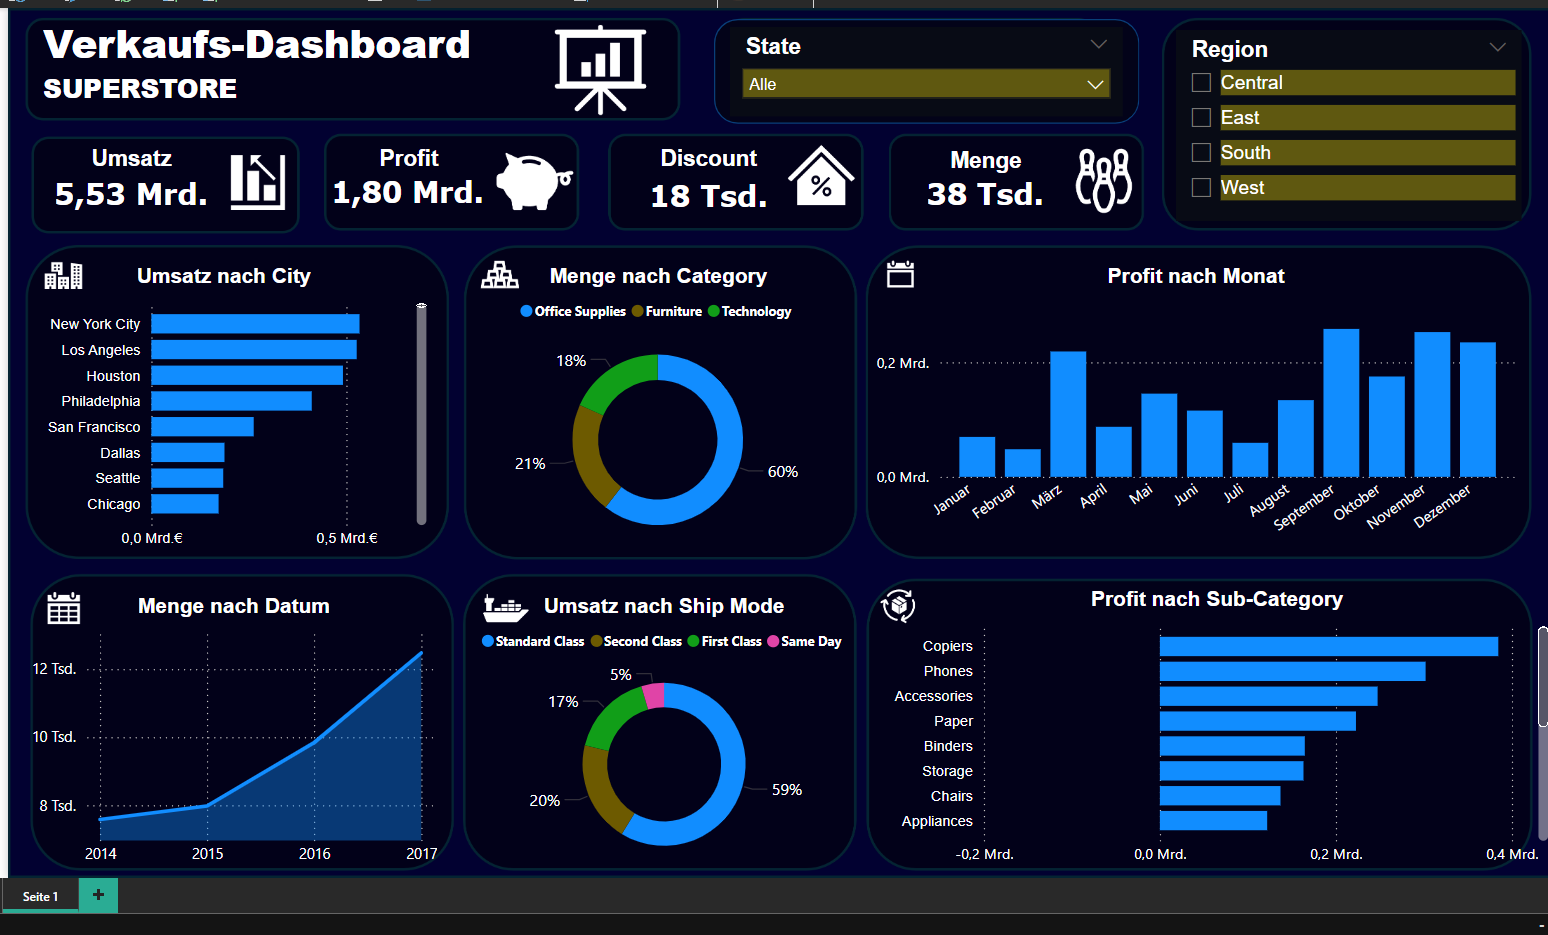

Layout of this report page (visuals, bound fields, positions):
{"tool":"powerbi","page":{"name":"Seite 1","canvas":[1280,720],"ordinal":0},"visuals":[{"type":"card","title":"Umsatz","fields":{"Values":["Sum(Sample - Superstore.Umsatz)"]},"box":[17.8,113.8,169.8,62.2],"z":0},{"type":"card","title":"Discount","fields":{"Values":["Sum(Sample - Superstore.Discount)"]},"box":[500.4,113.8,158.2,64.9],"z":1000},{"type":"card","title":"Profit","fields":{"Values":["Sum(Sample - Superstore.Profit)"]},"box":[238.2,113.8,186.7,60.4],"z":2000},{"type":"card","title":"Menge","fields":{"Values":["Sum(Sample - Superstore.Quantity)"]},"box":[750.2,114.7,117.3,60.4],"z":3000},{"type":"clusteredColumnChart","title":"Profit nach Monat","fields":{"Y":["Sum(Sample - Superstore.Profit)"],"Category":["Sample - Superstore.Order-Date.Variation.Datumshierarchie.Monat"]},"box":[713.8,211.6,539.6,244.4],"z":4000},{"type":"clusteredBarChart","title":"Umsatz nach City","fields":{"Category":["Sample - Superstore.City"],"Y":["Sum(Sample - Superstore.Umsatz)"]},"box":[5.8,211.9,345.9,243.3],"z":5000},{"type":"donutChart","title":"Menge nach Category","fields":{"Category":["Sample - Superstore.Category"],"Y":["Sum(Sample - Superstore.Quantity)"]},"box":[376.9,211.6,323.6,244.4],"z":6000},{"type":"donutChart","title":"Umsatz nach Ship Mode","fields":{"Category":["Sample - Superstore.Ship Mode"],"Y":["Sum(Sample - Superstore.Sales)"]},"box":[385.8,485.3,314.7,234.7],"z":7000},{"type":"barChart","title":"Profit nach Sub-Category","fields":{"Category":["Sample - Superstore.Sub-Category"],"Y":["Sum(Sample - Superstore.Profit)"]},"box":[721.8,479.1,558.2,239.1],"z":8000},{"type":"areaChart","title":"Menge nach Datum","fields":{"Y":["Sum(Sample - Superstore.Quantity)"],"Category":["Sample - Superstore.Order-Date.Variation.Datumshierarchie.Jahr"]},"box":[14.2,485.3,345.8,232.9],"z":9000},{"type":"shape","box":[584.6,9,352.2,86.8],"z":10000},{"type":"slicer","fields":{"Values":["Sample - Superstore.Region"]},"box":[966.7,18,286.3,157.6],"z":11000},{"type":"slicer","fields":{"Values":["Sample - Superstore.State"]},"box":[597.6,16,325.2,73.8],"z":12000},{"type":"textbox","box":[24,1.8,476.4,88],"z":13000}]}

Visuals, with their boxes in screenshot pixels (x1, y1, x2, y2):
"Umsatz" card: x1=13, y1=192, x2=216, y2=266
"Discount" card: x1=589, y1=192, x2=777, y2=270
"Profit" card: x1=276, y1=192, x2=499, y2=264
"Menge" card: x1=887, y1=193, x2=1027, y2=265
"Profit nach Monat" clusteredColumnChart: x1=843, y1=309, x2=1487, y2=600
"Umsatz nach City" clusteredBarChart: x1=0, y1=309, x2=411, y2=599
"Menge nach Category" donutChart: x1=441, y1=309, x2=827, y2=600
"Umsatz nach Ship Mode" donutChart: x1=452, y1=635, x2=827, y2=915
"Profit nach Sub-Category" barChart: x1=853, y1=628, x2=1519, y2=913
"Menge nach Datum" areaChart: x1=9, y1=635, x2=421, y2=913
shape: x1=689, y1=67, x2=1109, y2=171
slicer - Sample - Superstore.Region: x1=1145, y1=78, x2=1486, y2=266
slicer - Sample - Superstore.State: x1=705, y1=76, x2=1093, y2=164
textbox: x1=21, y1=59, x2=589, y2=164
